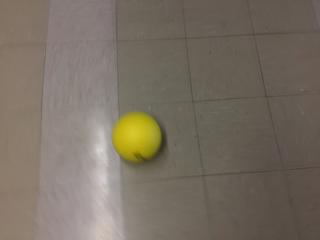power_cell: (112, 110, 164, 164)
